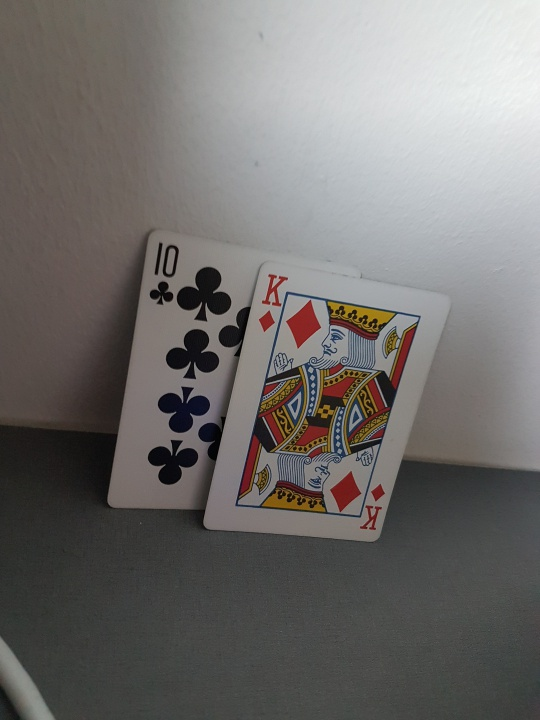10: (105, 230, 362, 512)
king: (202, 258, 448, 542)
